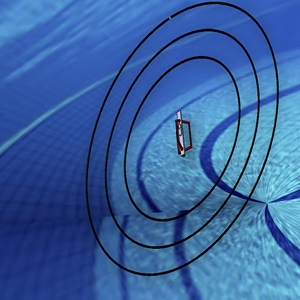circle: (71, 1, 300, 281)
submarine: (162, 106, 199, 155)
